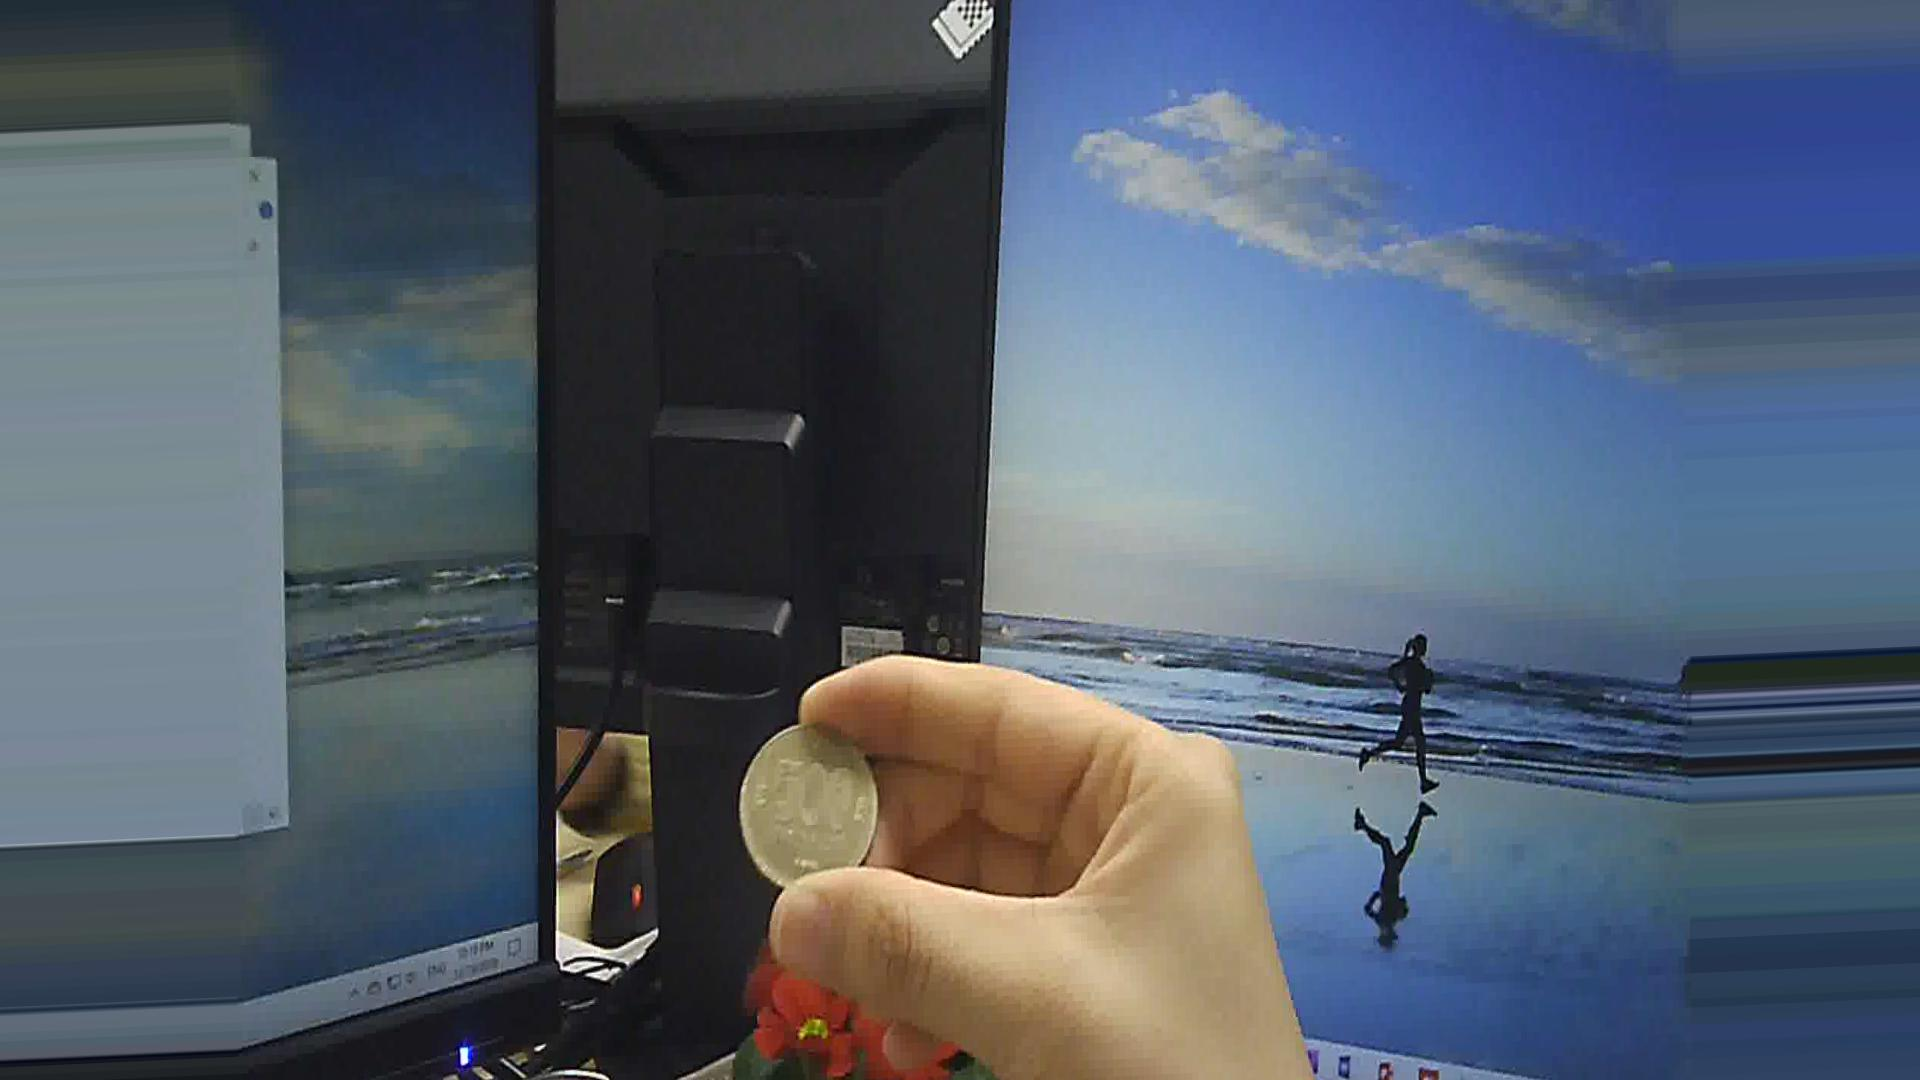500 Yen: (737, 717, 877, 903)
